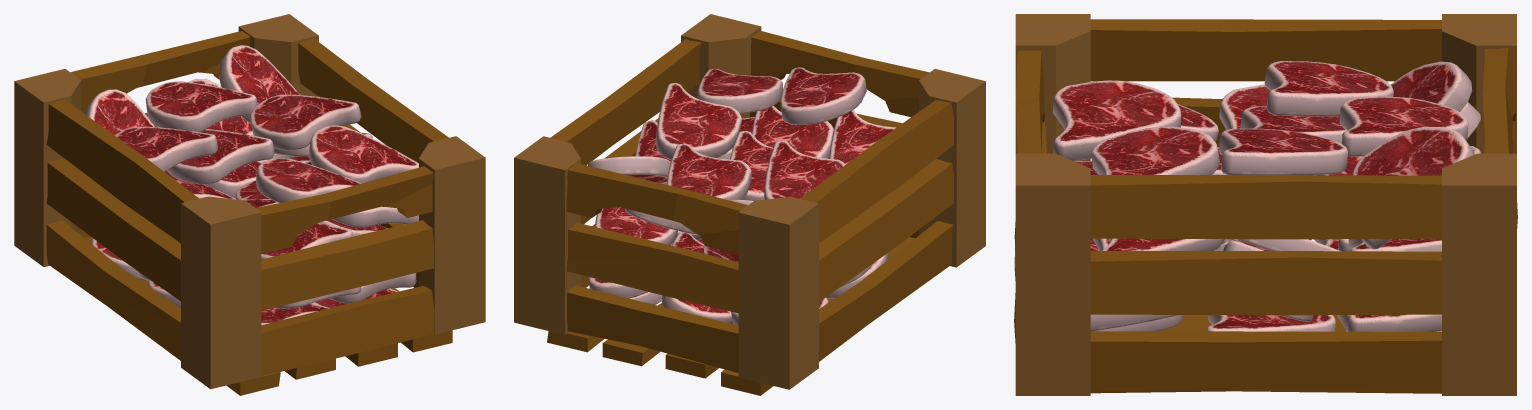
Rendered from MeatCrate.fbx.
3 views of the same model, side by side, from view 1: azimuth 30°, elevation 25°; view 2: azimuth 150°, elevation 25°; view 3: azimuth 270°, elevation 25° (orthographic). The views are drawn at different scales.
Parts seen in each view (by area): view 1: Crate8, Meat1.048, Meat1.050, Meat1.037, Meat1.042, Meat1.047, Meat1.049, Meat1.046, Meat1.024, Meat1.027, Meat1.031, Meat1.012 (+6 smaller); view 2: Crate8, Meat1.048, Meat1.047, Meat1.050, Meat1.049, Meat1.037, Meat1.036, Meat1.035, Meat1.042, Meat1.039, Meat1.046, Meat1.010 (+5 smaller); view 3: Crate8, Meat1.047, Meat1.037, Meat1.048, Meat1.049, Meat1.050, Meat1.046, Meat1.024, Meat1.008, Meat1.042, Meat1.021, Meat1.031 (+6 smaller).
Part boxes in pixels (x1,y1,x2,y2): Crate8: [14, 14, 485, 395]; Meat1.048: [250, 94, 361, 150]; Meat1.050: [145, 81, 257, 132]; Meat1.037: [309, 125, 418, 183]; Meat1.042: [167, 129, 274, 184]; Meat1.047: [256, 158, 361, 202]; Meat1.049: [114, 126, 218, 171]; Meat1.046: [219, 45, 300, 123]; Meat1.024: [84, 89, 154, 134]; Meat1.027: [261, 223, 353, 259]; Meat1.031: [332, 206, 418, 227]; Meat1.012: [329, 273, 416, 303]; Crate8: [514, 14, 985, 395]; Meat1.048: [655, 83, 742, 159]; Meat1.047: [780, 67, 866, 124]; Meat1.050: [666, 143, 751, 200]; Meat1.049: [764, 140, 845, 199]; Meat1.037: [697, 69, 782, 113]; Meat1.036: [751, 106, 833, 158]; Meat1.035: [829, 110, 895, 164]; Meat1.042: [730, 131, 772, 200]; Meat1.039: [594, 207, 677, 245]; Meat1.046: [588, 156, 670, 183]; Meat1.010: [662, 295, 732, 323]; Crate8: [1014, 14, 1517, 395]; Meat1.047: [1053, 80, 1181, 161]; Meat1.037: [1091, 126, 1219, 174]; Meat1.048: [1218, 128, 1347, 175]; Meat1.049: [1264, 61, 1393, 116]; Meat1.050: [1339, 96, 1468, 156]; Meat1.046: [1353, 126, 1474, 249]; Meat1.024: [1390, 61, 1472, 111]; Meat1.008: [1206, 315, 1335, 331]; Meat1.042: [1240, 106, 1346, 143]; Meat1.021: [1347, 314, 1441, 331]; Meat1.031: [1102, 238, 1224, 250].
Bounding box in the file's own units: 151 × 95.12 × 187.
